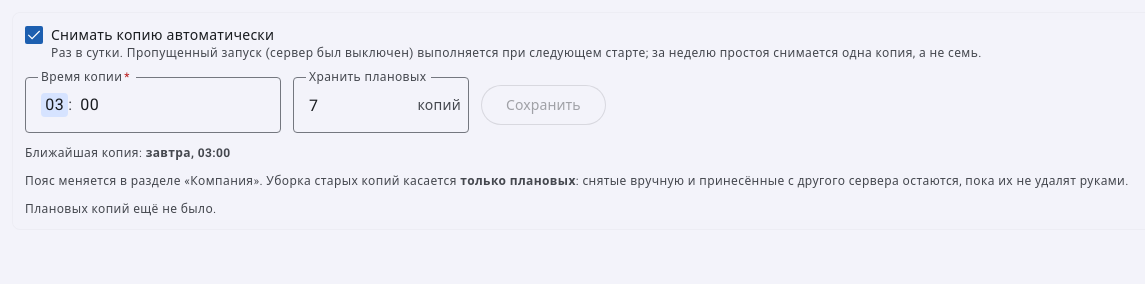
Scenario: ScheduleForm › отказ по времени снимается, когда время исправлено
Replace the text in the field with placeholder "ЧЧ" with "25". click: (55, 105)
box: [41,93,68,117]
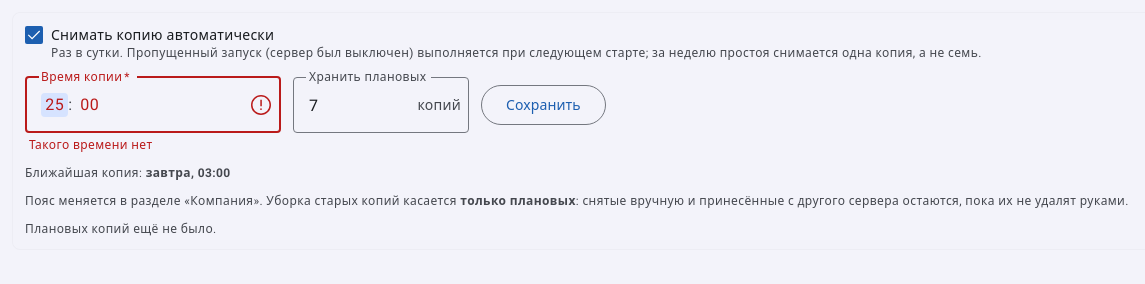
Click the button "Сохранить". click: (543, 105)
box: [481,85,606,125]
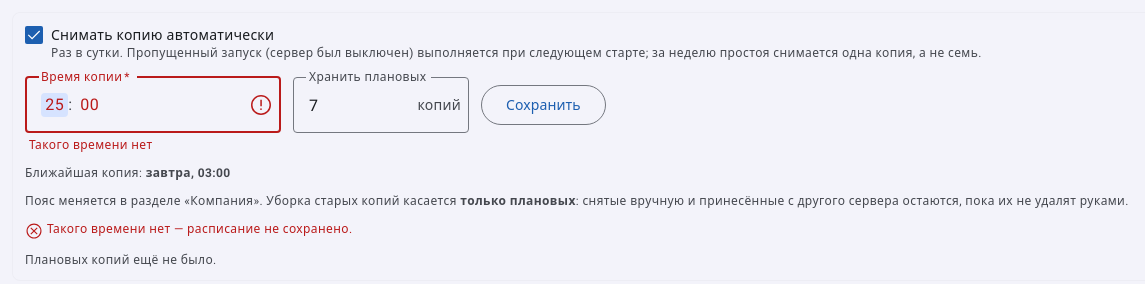
expect the text "Такого времени нет — расписание не сохранено." is shown: met, box [47,221,352,237]
Replace the text in the field with placeholder "ЧЧ" with "04". click: (55, 105)
box: [41,93,68,117]
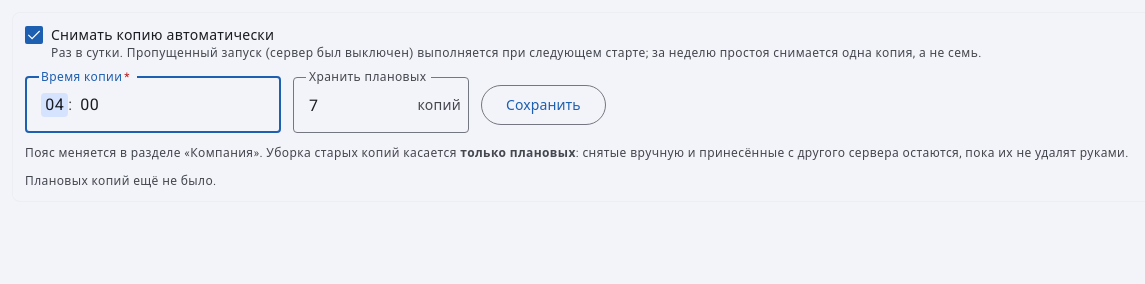
expect the text "Такого времени нет — расписание не сохранено." is gone: met
